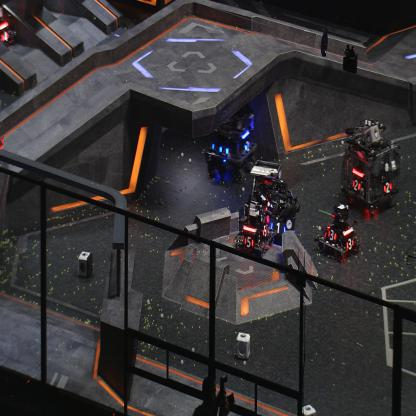car: (339, 126, 402, 216), (204, 100, 259, 187), (259, 179, 300, 247), (247, 158, 285, 228), (315, 204, 360, 262), (235, 200, 274, 258), (0, 2, 16, 51)
